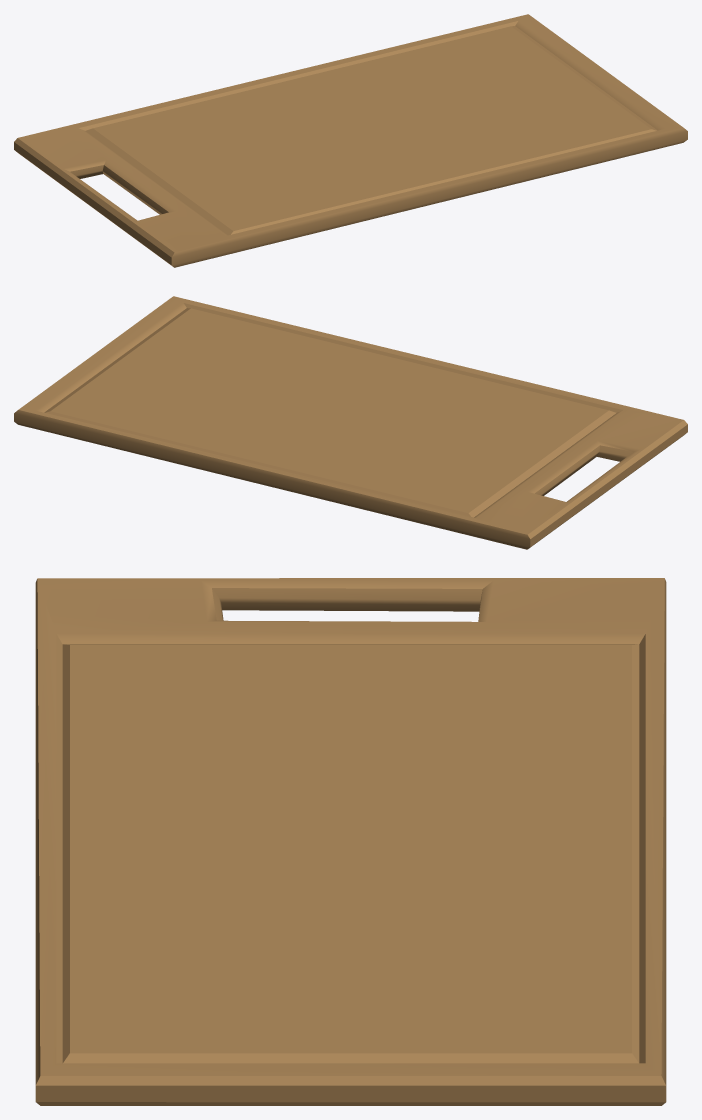
The model's file is cutting_board_2.fbx.
3 views of the same model, one above another, from view 1: azimuth 30°, elevation 25°; view 2: azimuth 150°, elevation 25°; view 3: azimuth 270°, elevation 25° (orthographic). The views are drawn at different scales.
Visible parts, largest first — view 1: cutting_board_2; view 2: cutting_board_2; view 3: cutting_board_2.
Boxes of the visible parts, box(x1,y1,x2,y2) form: cutting_board_2: box(14, 14, 687, 267); cutting_board_2: box(14, 296, 687, 549); cutting_board_2: box(35, 578, 666, 1105).
Size of the model in its own units: 5.82 by 0.1626 by 3.08.
